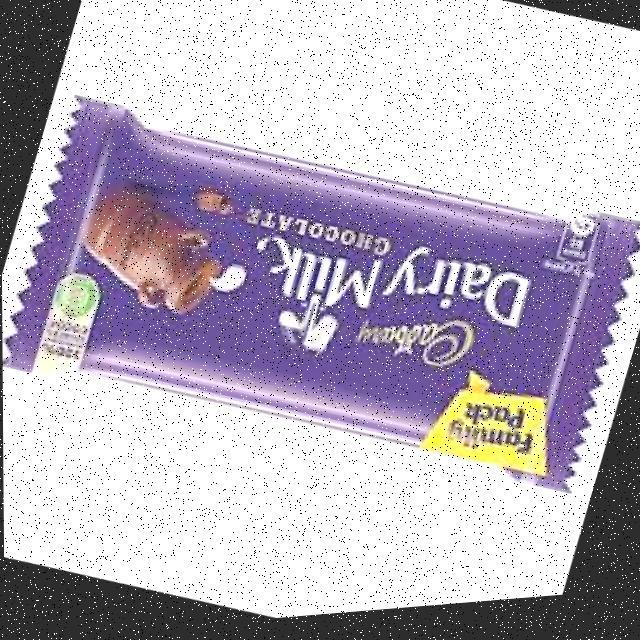cadbury_chocolate: (58, 107, 585, 490)
